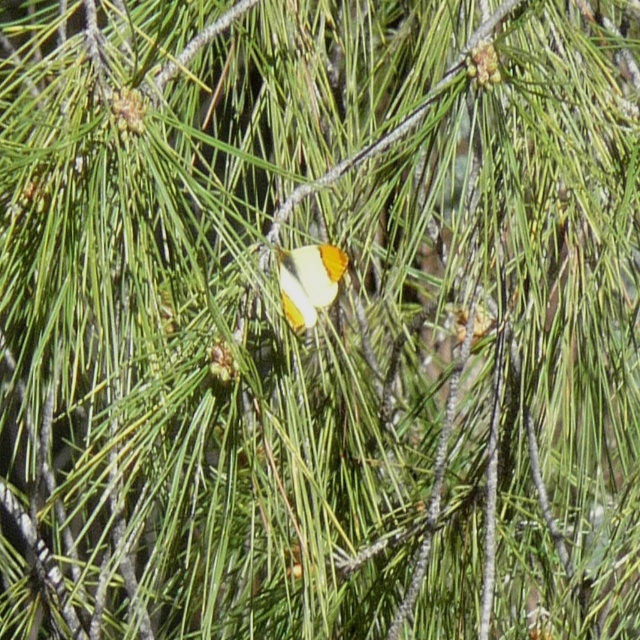Butterfly: (264, 226, 351, 333)
